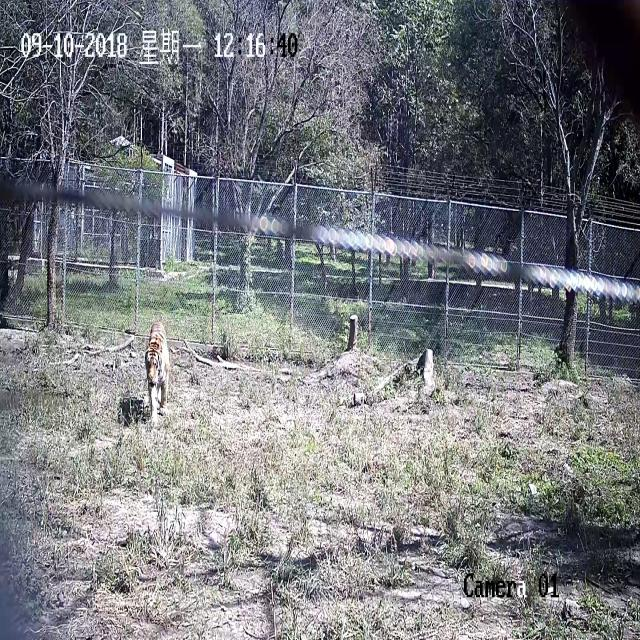Tiger: (115, 302, 186, 438)
